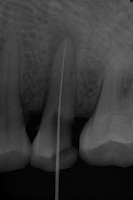Furcation Involvement: (48, 25, 81, 61)
